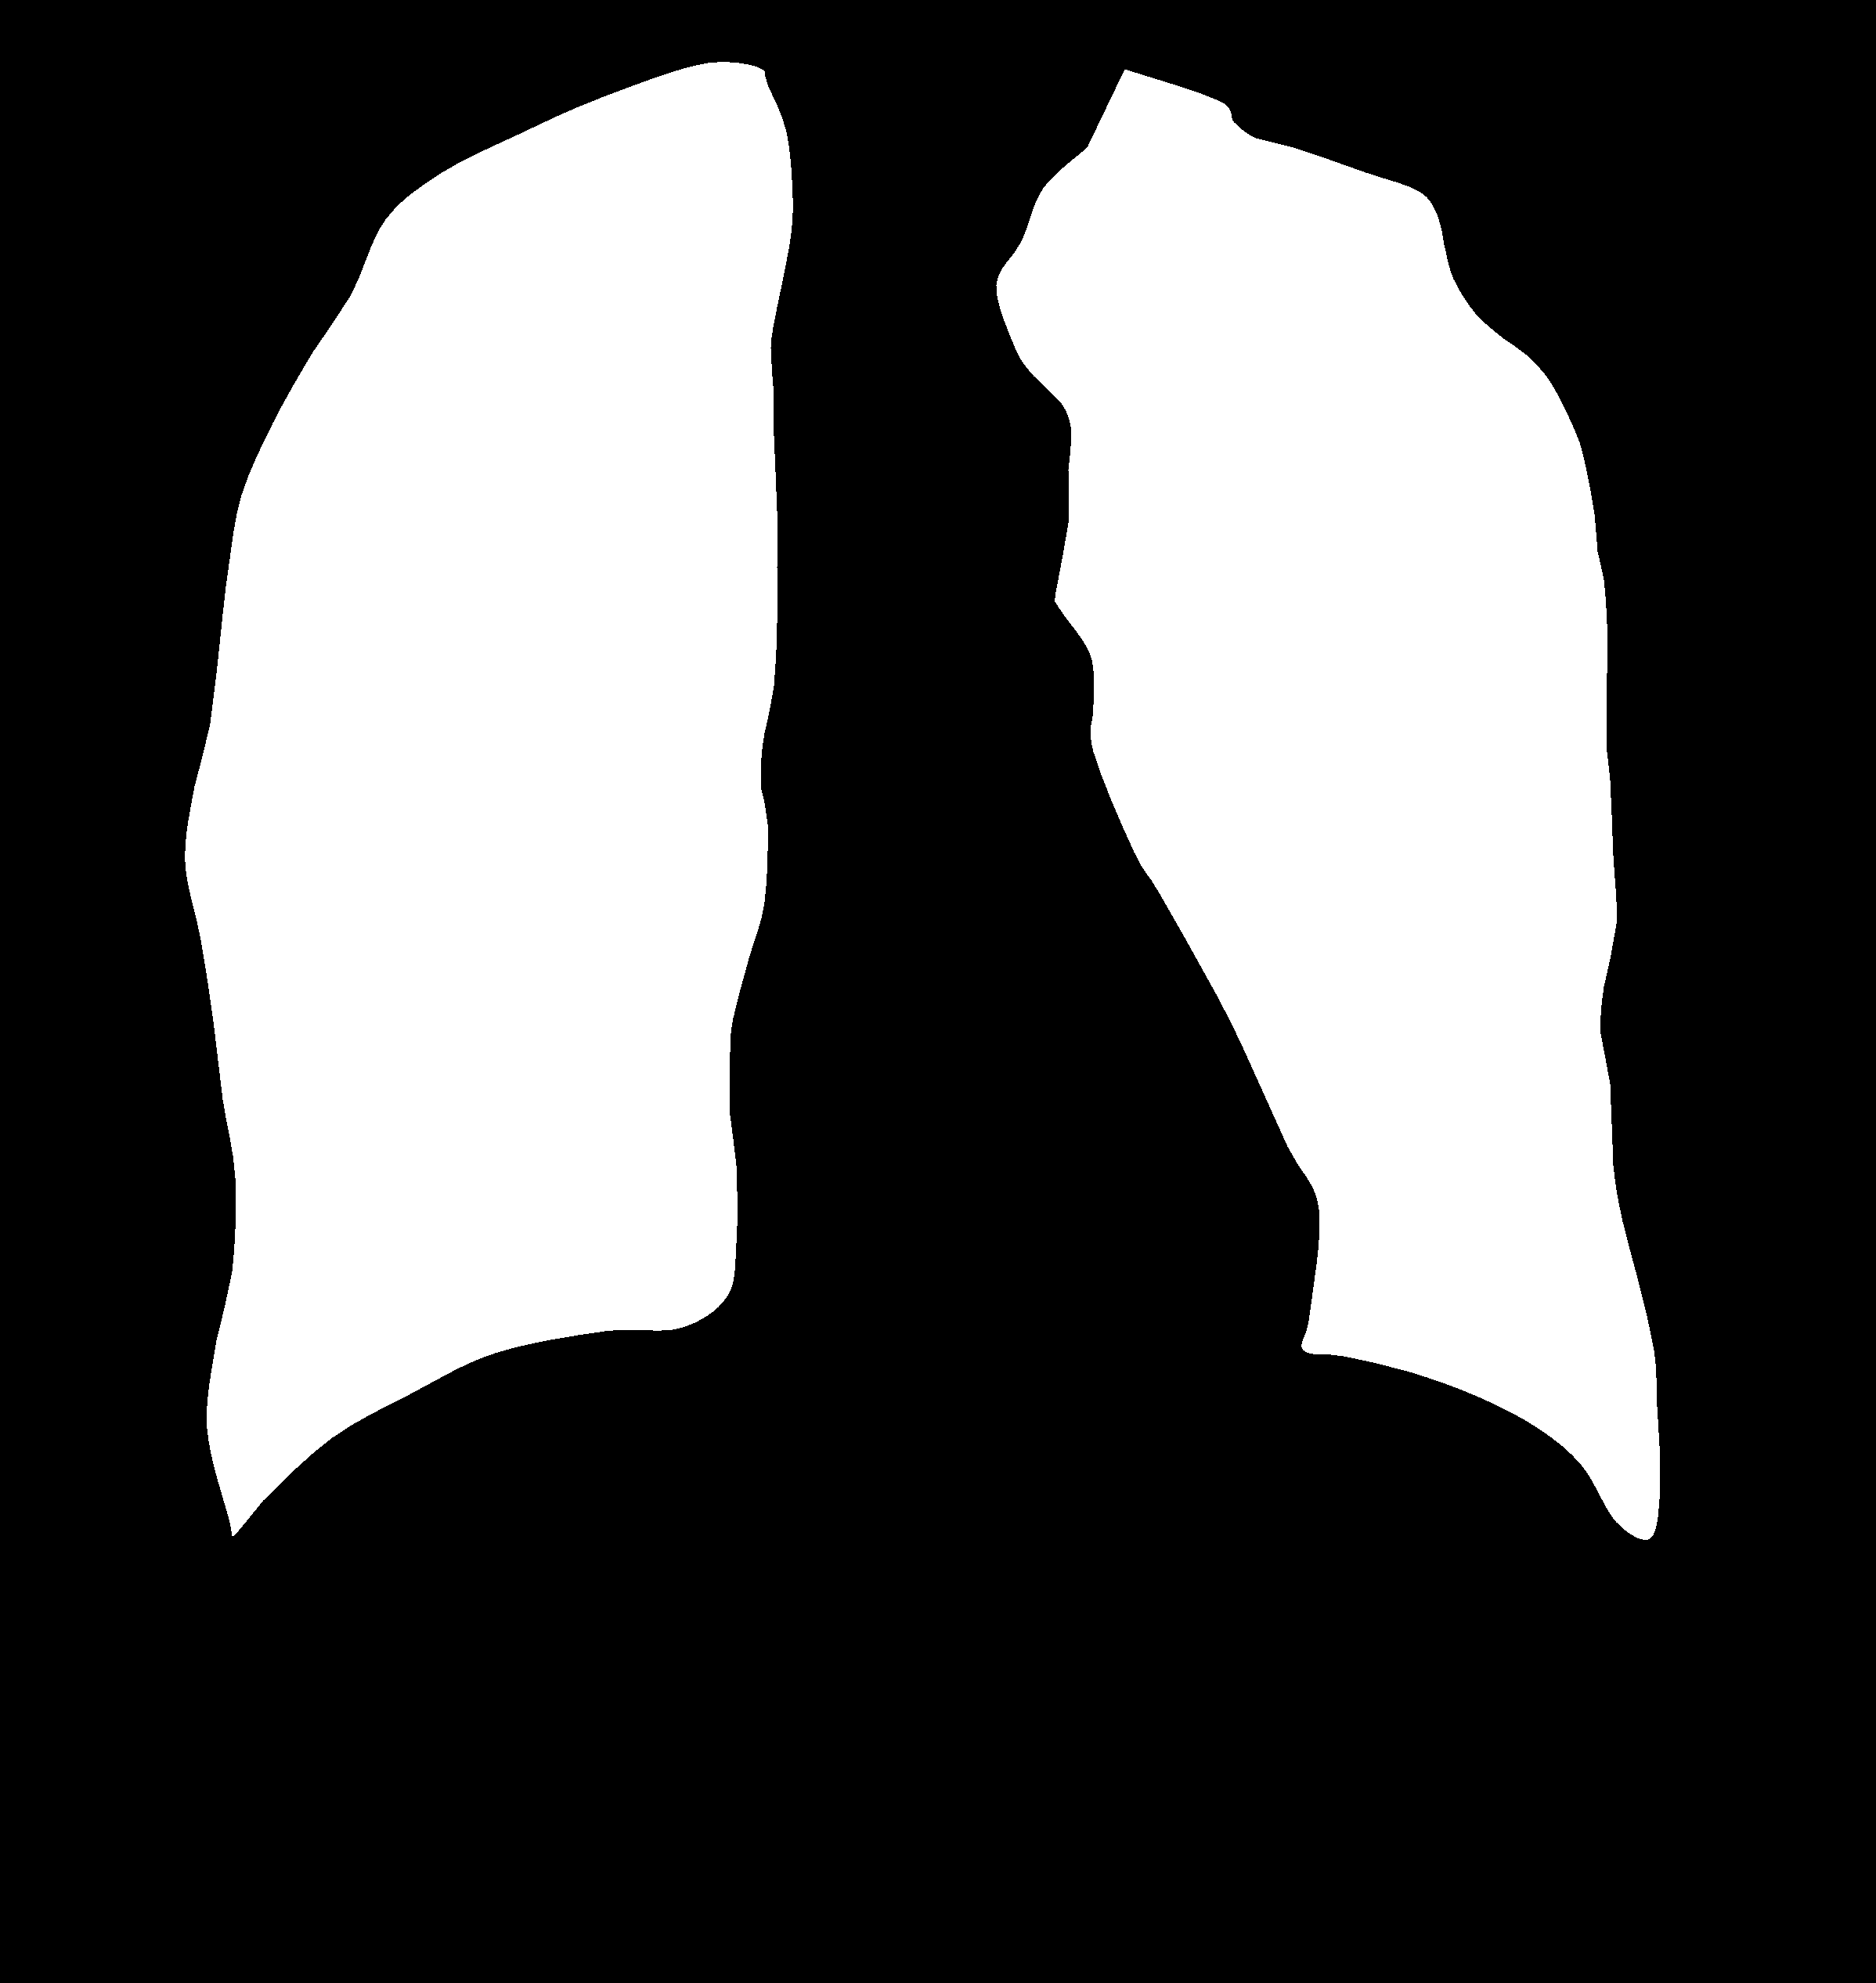heart: (592, 702, 1310, 1417)
left_lung: (210, 62, 792, 1556)
right_lung: (996, 71, 1663, 1549)
